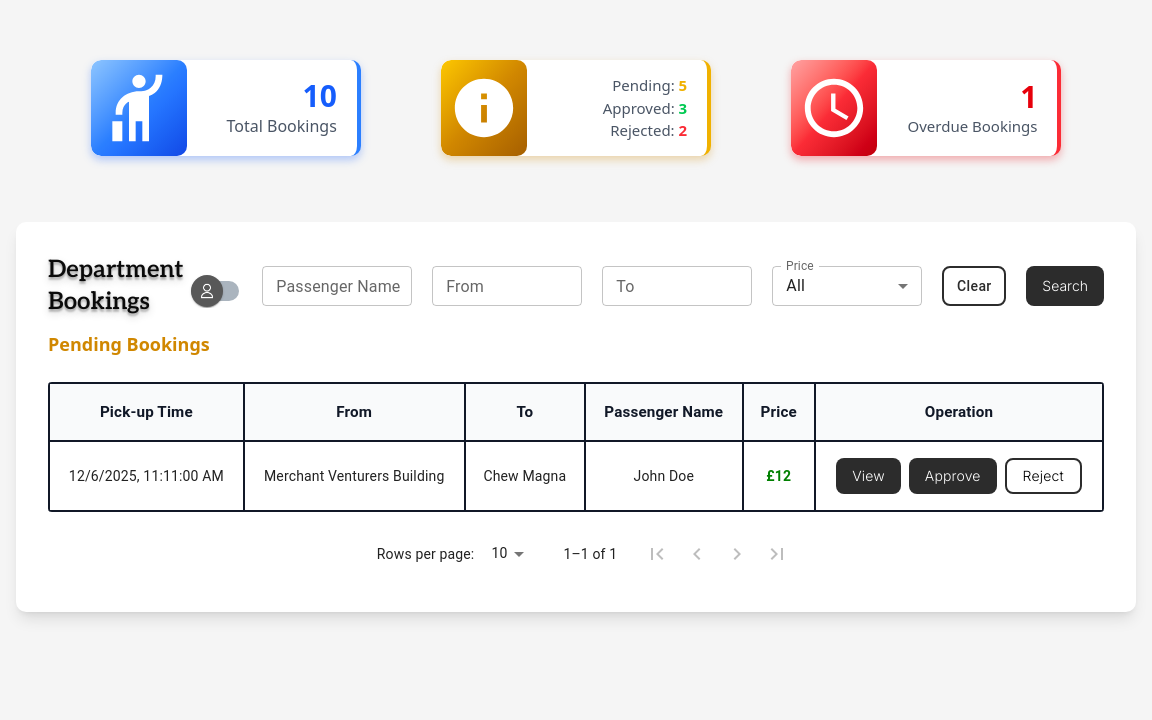
Test: Approve and Reject actions › clicking Approve opens PO dialog
What coordinates should you click on to do the following:
click the button "Approve"
I would click on:
 (953, 476)
Its box is x1=909 y1=458 x2=997 y2=494.
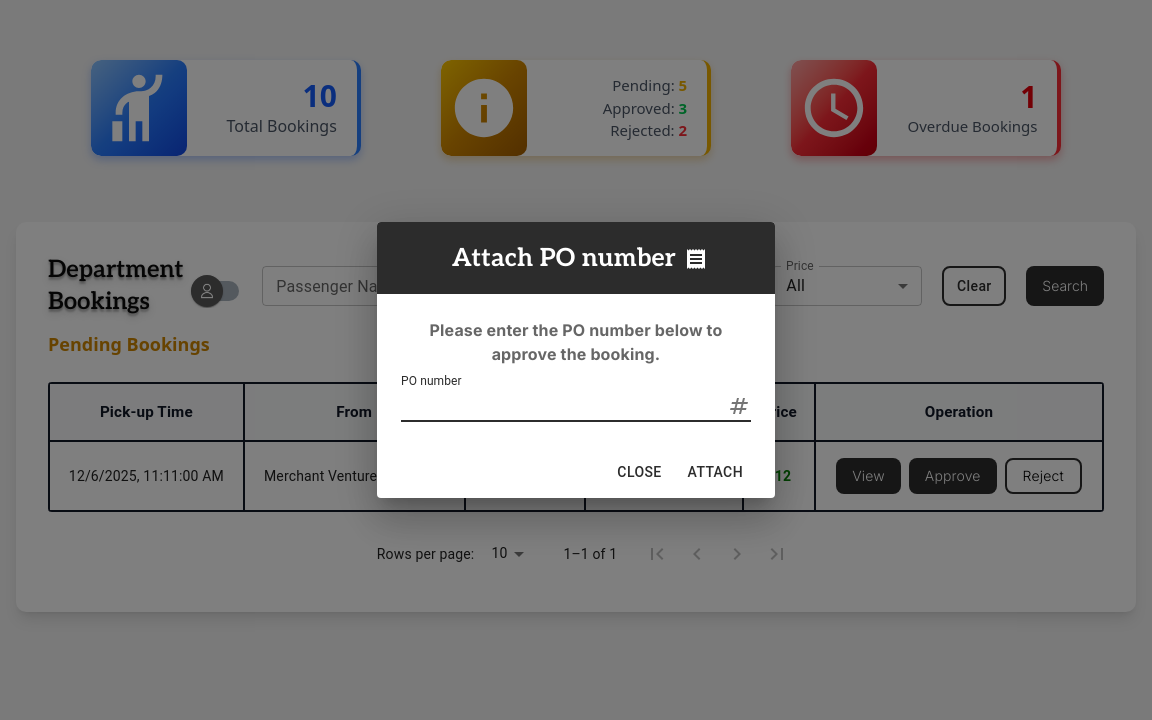
Expected: the heading "Attach PO number" is shown, x1=377 y1=222 x2=775 y2=294
